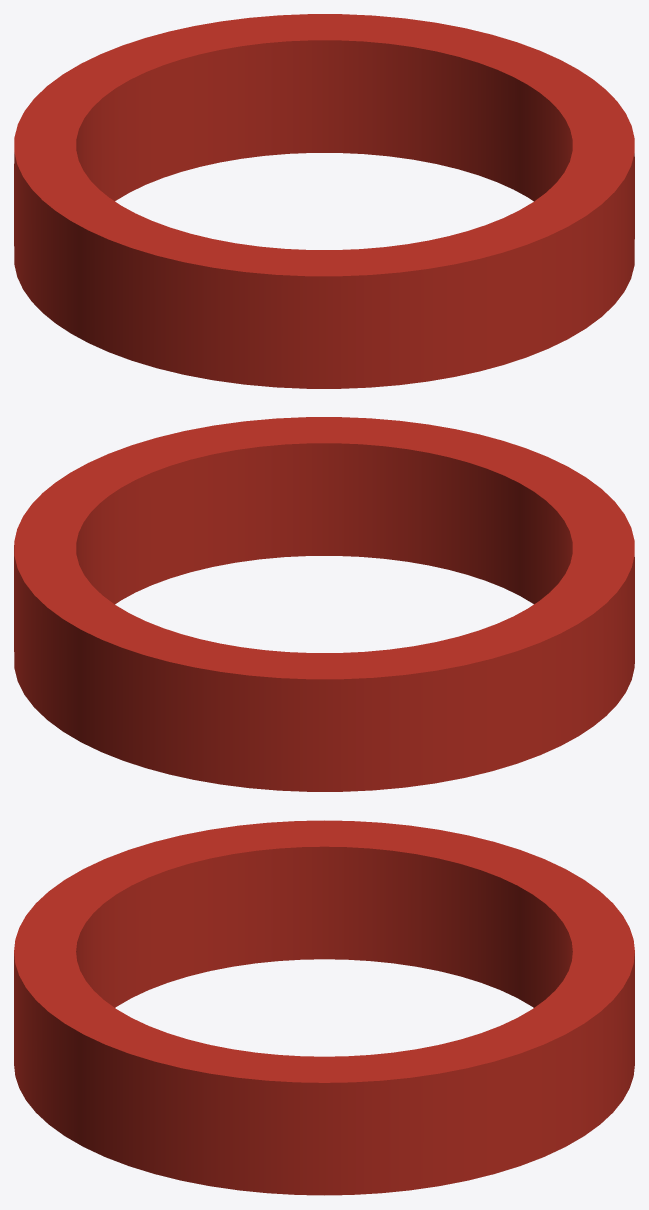
Rendered from NotMaskedAirRight.fbx.
3 views of the same model, one above another, from view 1: azimuth 30°, elevation 25°; view 2: azimuth 150°, elevation 25°; view 3: azimuth 270°, elevation 25° (orthographic).
Parts seen in each view (by area): view 1: Body1; view 2: Body1; view 3: Body1.
Part boxes in pixels (x1=…): Body1: x1=14, y1=14, x2=634, y2=388; Body1: x1=14, y1=417, x2=634, y2=791; Body1: x1=14, y1=820, x2=634, y2=1195.
Size of the model in its own units: 100 by 20 by 100.
